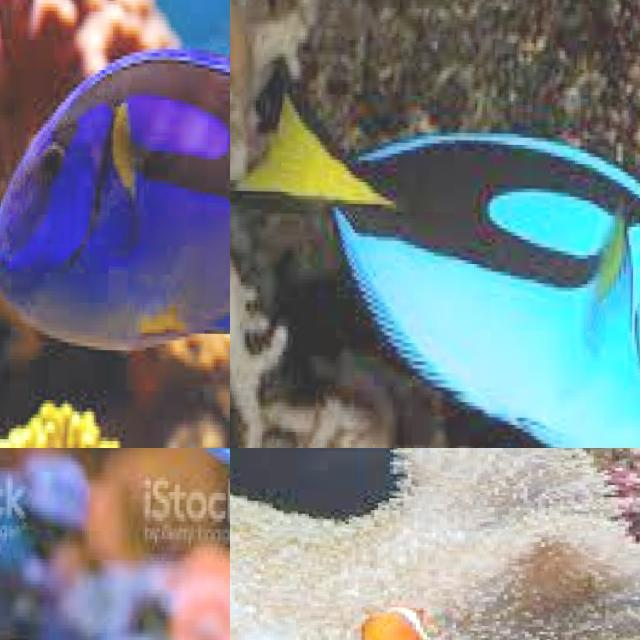BlueTang: (230, 72, 640, 448), (0, 12, 230, 385), (230, 448, 640, 550), (108, 448, 230, 640)
